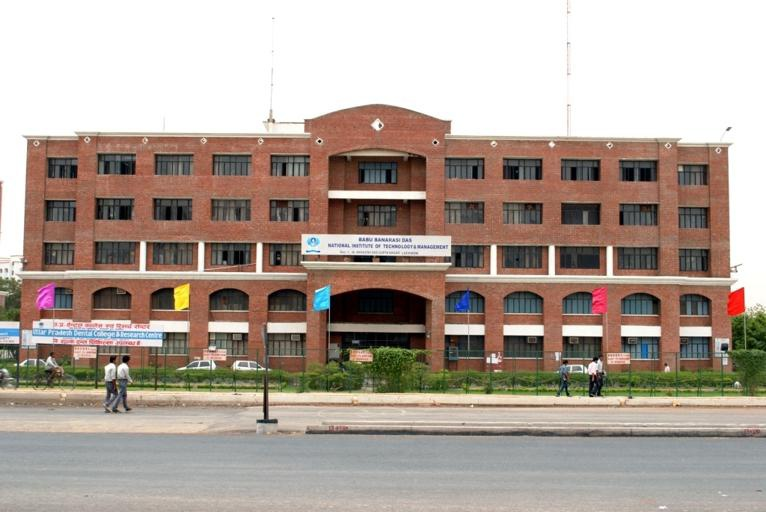non-vehicle: (30, 365, 77, 393), (0, 376, 17, 392)
